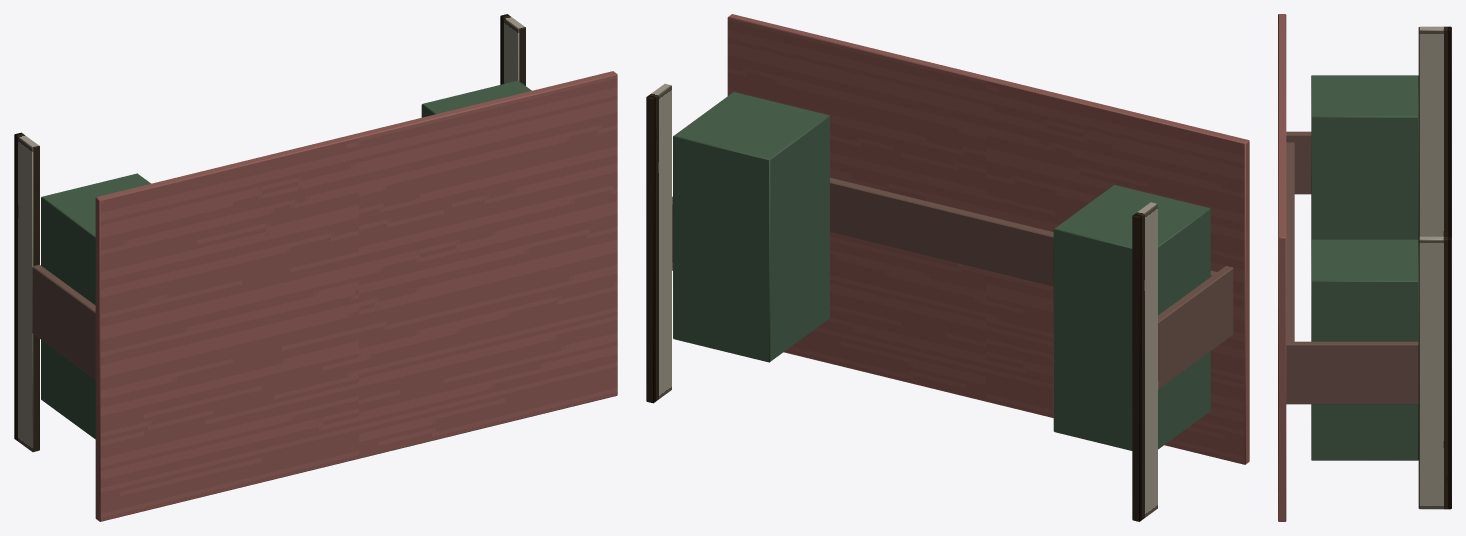
File: prop_desk_03.glb
3 views of the same model, side by side, from view 1: azimuth 30°, elevation 25°; view 2: azimuth 150°, elevation 25°; view 3: azimuth 270°, elevation 25° (orthographic). The views are drawn at different scales.
Visible parts, largest first — view 1: prop_desk2; view 2: prop_desk2; view 3: prop_desk2.
Boxes of the visible parts, x1,y1,x2,y2 form: prop_desk2: [14, 14, 617, 521]; prop_desk2: [646, 14, 1249, 521]; prop_desk2: [1278, 14, 1451, 521].
Bounding box in the file's own units: 128 × 76 × 42.
Materials: 8 (8 with a texture image).
